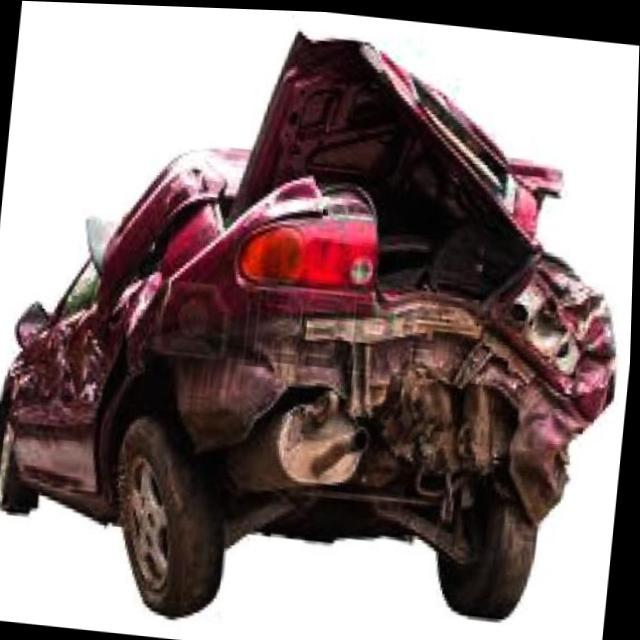Car-Damage: (0, 0, 640, 569)
